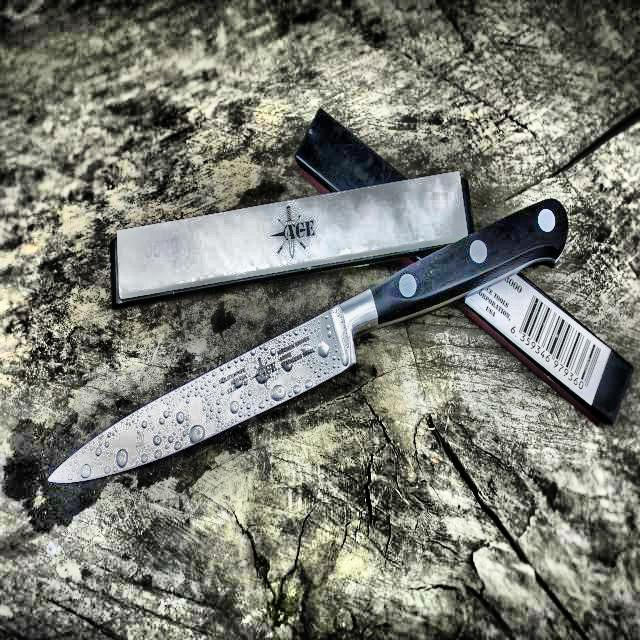knife: (45, 196, 572, 491)
